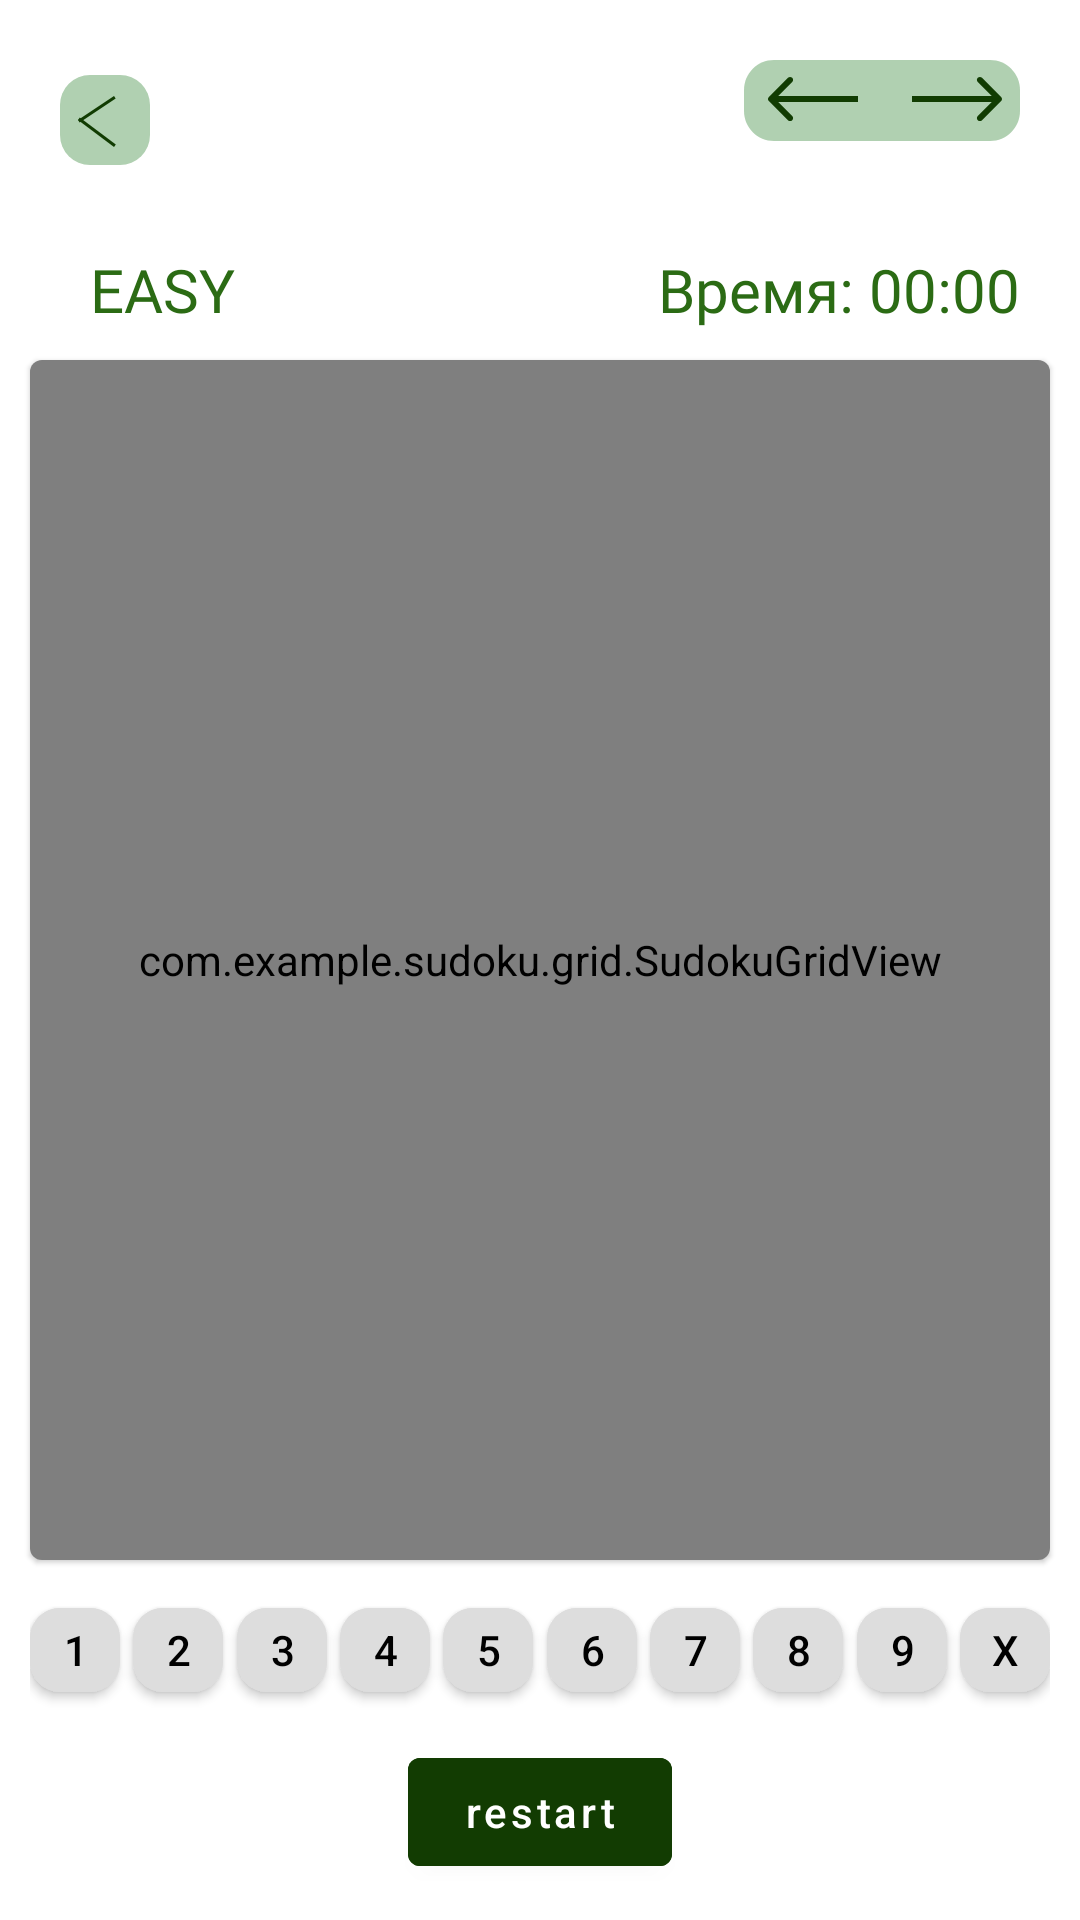

Locate icon controls on the screen. Image size 1080x1920, boxes as bbox=[x1, y1, x2, y2].
back: bbox=[60, 75, 150, 165]
next step: bbox=[882, 60, 1020, 141]
previous step: bbox=[744, 60, 882, 141]
